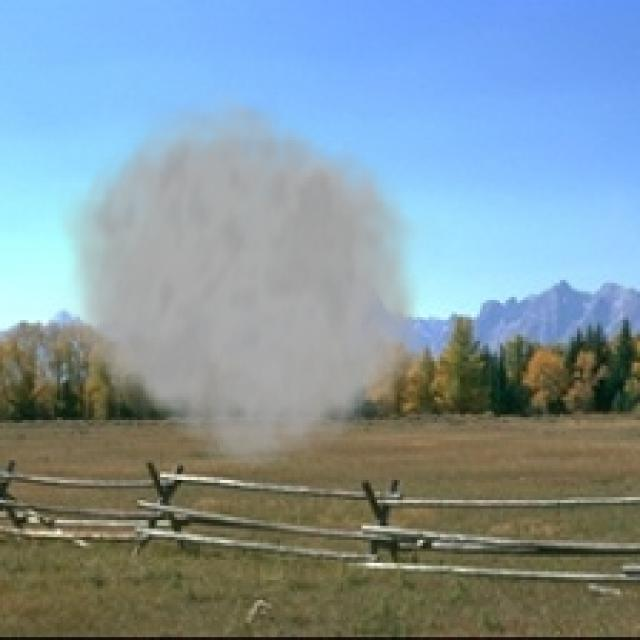Smoke: (57, 83, 443, 480)
